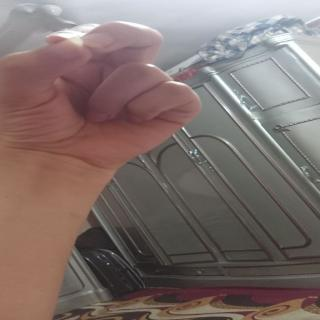QAAF: (6, 9, 206, 157)
